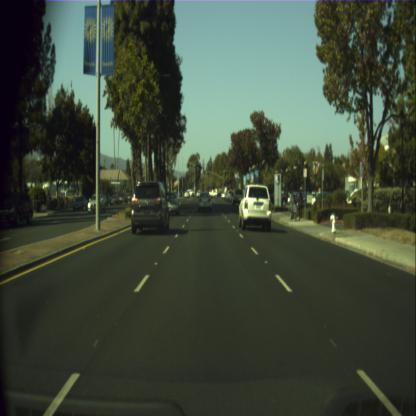Red: (182, 186, 184, 190)
off: (204, 171, 205, 174)
